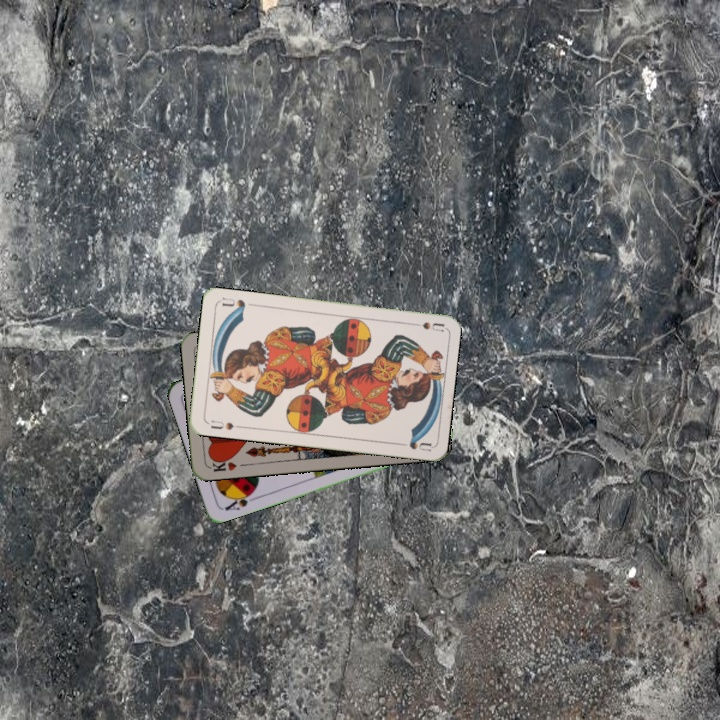HK: (206, 454, 239, 474)
SA: (221, 487, 257, 513)
SU: (404, 318, 445, 334), (207, 416, 244, 432)
